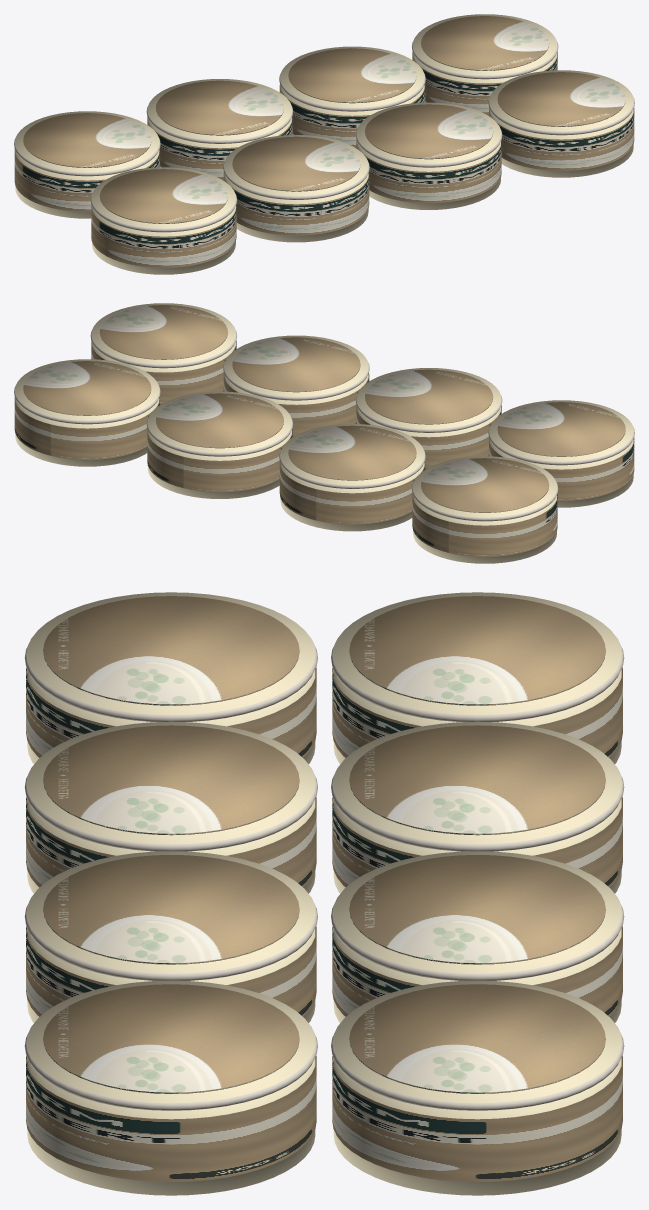
Rendered from alp_farm_camembert.glb.
3 renders of one model, top to bottom at view 1: azimuth 30°, elevation 25°; view 2: azimuth 150°, elevation 25°; view 3: azimuth 270°, elevation 25°, orthographic. The views are drawn at different scales.
Parts seen in each view (by area): view 1: Printed circular wheel top | STOCK_UNIT_007, Printed circular wheel top | STOCK_UNIT_002, Printed circular wheel top | STOCK_UNIT_003, Printed circular wheel top | STOCK_UNIT_005, Printed circular wheel top | STOCK_UNIT_004, Printed circular wheel top | STOCK_UNIT_006, Printed circular wheel top, Printed circular wheel top | STOCK_UNIT_008, Branded sideboard wrapping, Branded sideboard wrapping | STOCK_UNIT_002, Branded sideboard wrapping | STOCK_UNIT_004, Branded sideboard wrapping | STOCK_UNIT_003 (+20 smaller); view 2: Printed circular wheel top | STOCK_UNIT_003, Printed circular wheel top, Printed circular wheel top | STOCK_UNIT_006, Printed circular wheel top | STOCK_UNIT_007, Printed circular wheel top | STOCK_UNIT_008, Printed circular wheel top | STOCK_UNIT_002, Printed circular wheel top | STOCK_UNIT_005, Printed circular wheel top | STOCK_UNIT_004, Branded sideboard wrapping | STOCK_UNIT_005, Branded sideboard wrapping | STOCK_UNIT_006, Branded sideboard wrapping | STOCK_UNIT_008, Branded sideboard wrapping | STOCK_UNIT_007 (+20 smaller); view 3: Printed circular wheel top | STOCK_UNIT_003, Printed circular wheel top | STOCK_UNIT_004, Printed circular wheel top | STOCK_UNIT_007, Printed circular wheel top | STOCK_UNIT_008, Printed circular wheel top | STOCK_UNIT_002, Printed circular wheel top | STOCK_UNIT_006, Printed circular wheel top, Printed circular wheel top | STOCK_UNIT_005, Branded sideboard wrapping | STOCK_UNIT_004, Branded sideboard wrapping | STOCK_UNIT_008, Soft ripened round cheese wheel | STOCK_UNIT_004, Soft ripened round cheese wheel | STOCK_UNIT_008 (+20 smaller).
Part boxes in pixels (x1=…): Printed circular wheel top | STOCK_UNIT_007: x1=288, y1=48, x2=416, y2=103; Printed circular wheel top | STOCK_UNIT_002: x1=232, y1=136, x2=360, y2=191; Printed circular wheel top | STOCK_UNIT_003: x1=365, y1=104, x2=493, y2=159; Printed circular wheel top | STOCK_UNIT_005: x1=23, y1=113, x2=151, y2=167; Printed circular wheel top | STOCK_UNIT_004: x1=497, y1=72, x2=625, y2=126; Printed circular wheel top | STOCK_UNIT_006: x1=155, y1=80, x2=283, y2=135; Printed circular wheel top: x1=99, y1=169, x2=227, y2=223; Printed circular wheel top | STOCK_UNIT_008: x1=421, y1=16, x2=549, y2=70; Branded sideboard wrapping: x1=91, y1=205, x2=236, y2=267; Branded sideboard wrapping | STOCK_UNIT_002: x1=223, y1=173, x2=369, y2=235; Branded sideboard wrapping | STOCK_UNIT_004: x1=489, y1=108, x2=634, y2=170; Branded sideboard wrapping | STOCK_UNIT_003: x1=356, y1=140, x2=501, y2=203; Printed circular wheel top | STOCK_UNIT_003: x1=232, y1=337, x2=360, y2=392; Printed circular wheel top: x1=497, y1=402, x2=625, y2=456; Printed circular wheel top | STOCK_UNIT_006: x1=288, y1=425, x2=416, y2=480; Printed circular wheel top | STOCK_UNIT_007: x1=155, y1=393, x2=283, y2=448; Printed circular wheel top | STOCK_UNIT_008: x1=23, y1=361, x2=151, y2=415; Printed circular wheel top | STOCK_UNIT_002: x1=365, y1=369, x2=493, y2=424; Printed circular wheel top | STOCK_UNIT_005: x1=421, y1=458, x2=549, y2=512; Printed circular wheel top | STOCK_UNIT_004: x1=99, y1=305, x2=227, y2=359; Branded sideboard wrapping | STOCK_UNIT_005: x1=412, y1=494, x2=557, y2=556; Branded sideboard wrapping | STOCK_UNIT_006: x1=279, y1=462, x2=425, y2=524; Branded sideboard wrapping | STOCK_UNIT_008: x1=14, y1=397, x2=159, y2=459; Branded sideboard wrapping | STOCK_UNIT_007: x1=147, y1=429, x2=292, y2=492; Printed circular wheel top | STOCK_UNIT_003: x1=43, y1=855, x2=299, y2=964; Printed circular wheel top | STOCK_UNIT_004: x1=43, y1=984, x2=299, y2=1093; Printed circular wheel top | STOCK_UNIT_007: x1=349, y1=855, x2=605, y2=964; Printed circular wheel top | STOCK_UNIT_008: x1=349, y1=984, x2=605, y2=1093; Printed circular wheel top | STOCK_UNIT_002: x1=43, y1=725, x2=299, y2=835; Printed circular wheel top | STOCK_UNIT_006: x1=349, y1=725, x2=605, y2=835; Printed circular wheel top: x1=43, y1=596, x2=299, y2=705; Printed circular wheel top | STOCK_UNIT_005: x1=349, y1=596, x2=605, y2=705; Branded sideboard wrapping | STOCK_UNIT_004: x1=26, y1=1055, x2=316, y2=1182; Branded sideboard wrapping | STOCK_UNIT_008: x1=332, y1=1055, x2=622, y2=1182; Soft ripened round cheese wheel | STOCK_UNIT_004: x1=27, y1=980, x2=315, y2=1195; Soft ripened round cheese wheel | STOCK_UNIT_008: x1=333, y1=980, x2=621, y2=1195.
Bounding box in the file's own units: 0.471 × 0.0413 × 0.233.
Materials: 3 (1 with a texture image).
